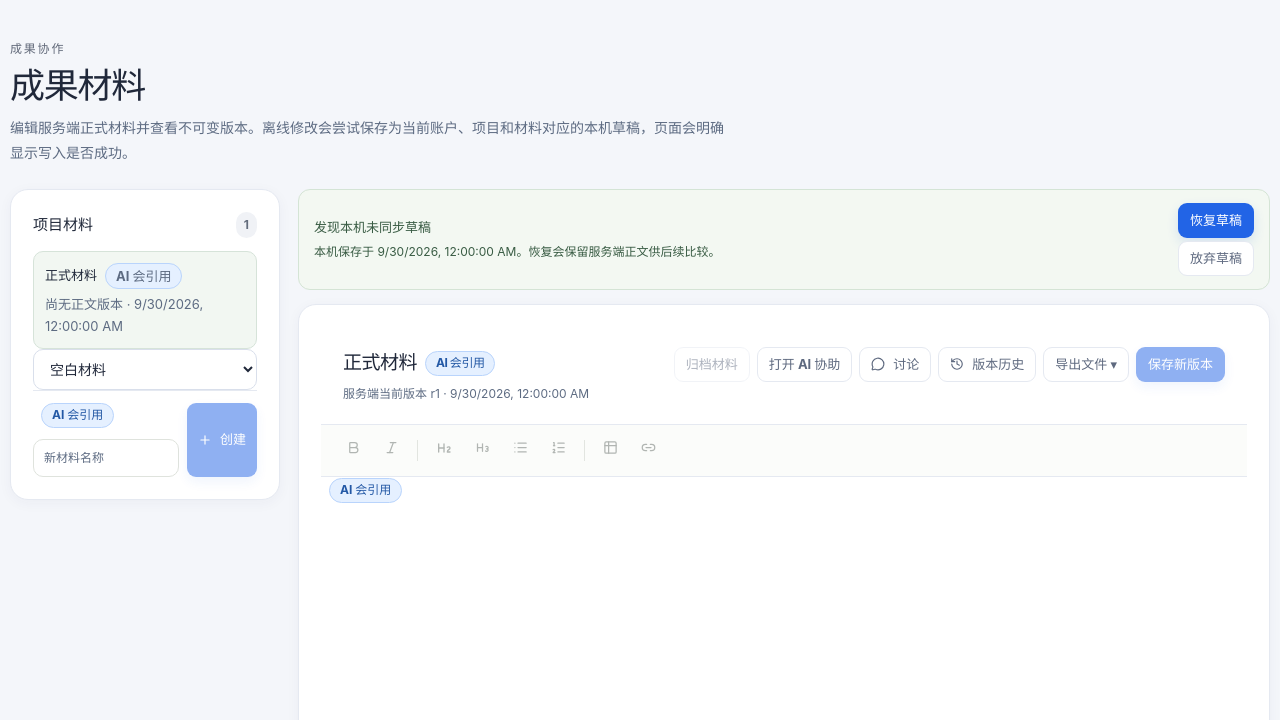
persists the submitted copy again when another tab cleared the draft before a conflict
The image size is (1280, 720).
Click the button "恢复草稿" at (1216, 221), box [1178,203,1254,238]
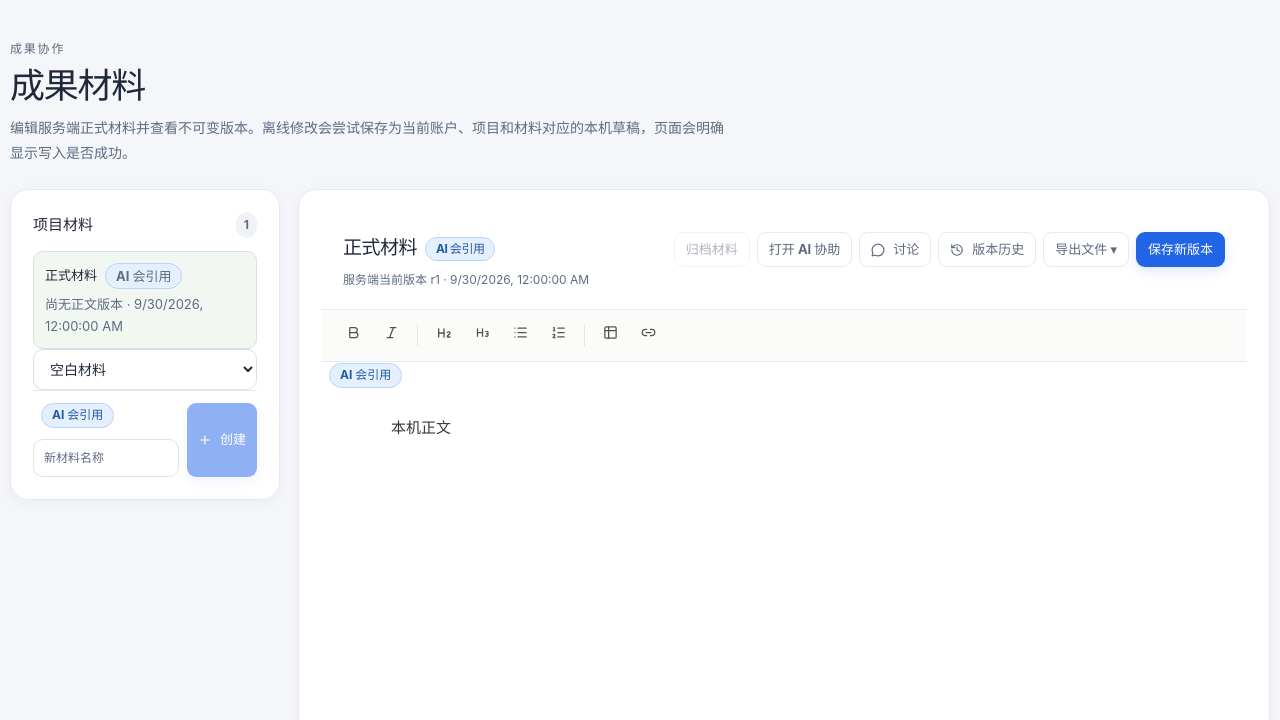
Click the button "保存新版本" at (1180, 250), box [1136,232,1225,267]
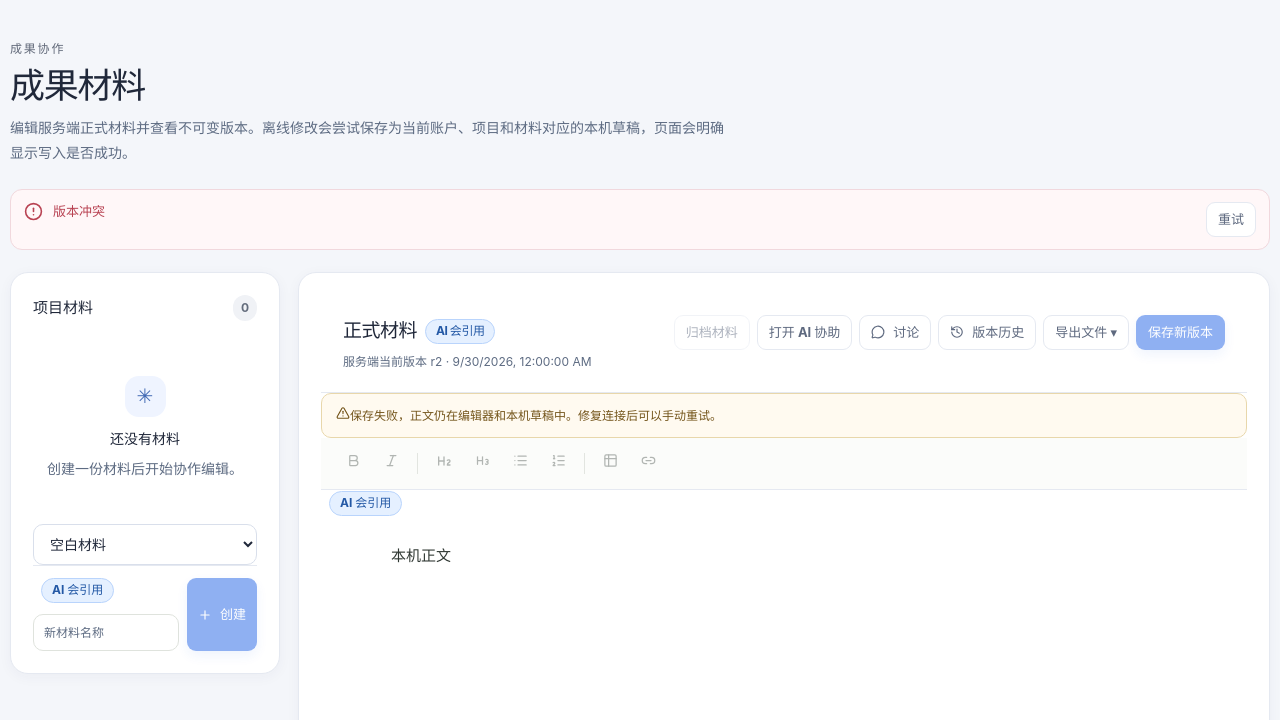
Now the button "保存新版本" is disabled, box [1136,315,1225,350]
Now the text "服务端当前版本 r2 · 9/30/2026, 12:00:00 AM" is shown, box [343,352,592,372]
